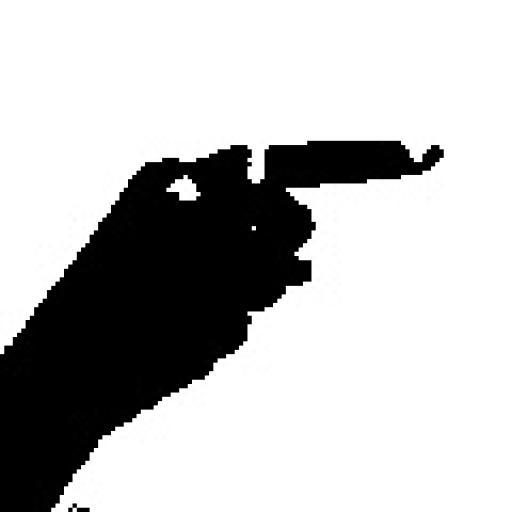index_right: (0, 137, 444, 371)
